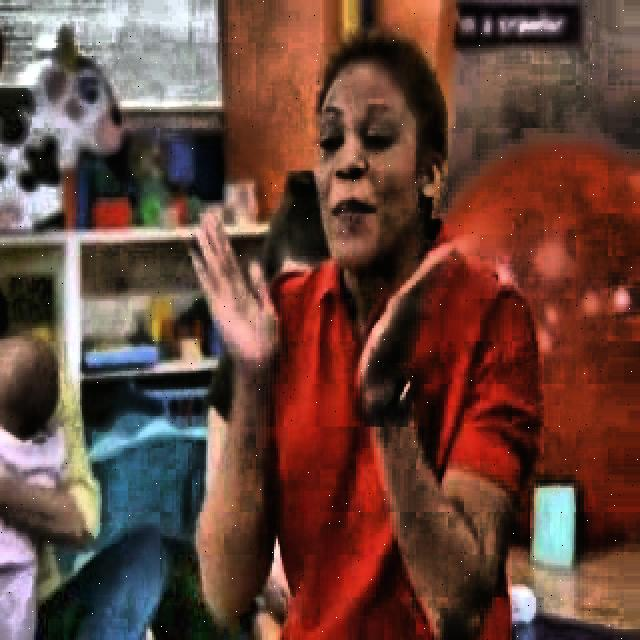F: (192, 51, 470, 640)
